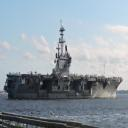Portanaves: (5, 16, 125, 103)
